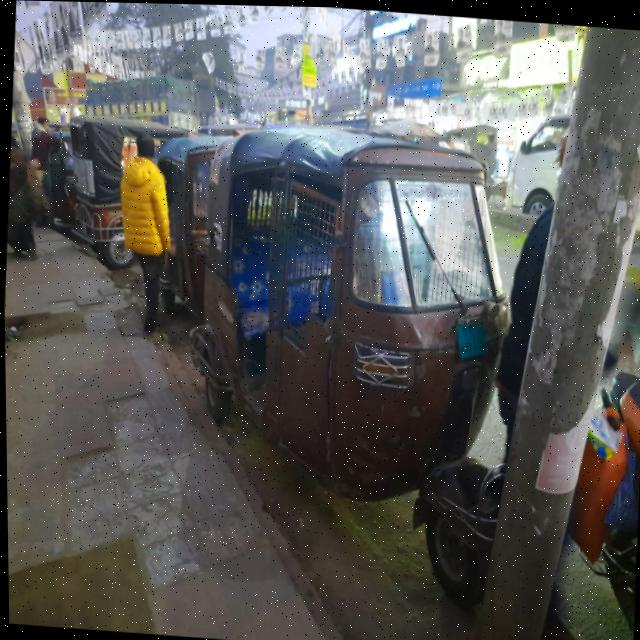cng: (174, 95, 521, 548)
